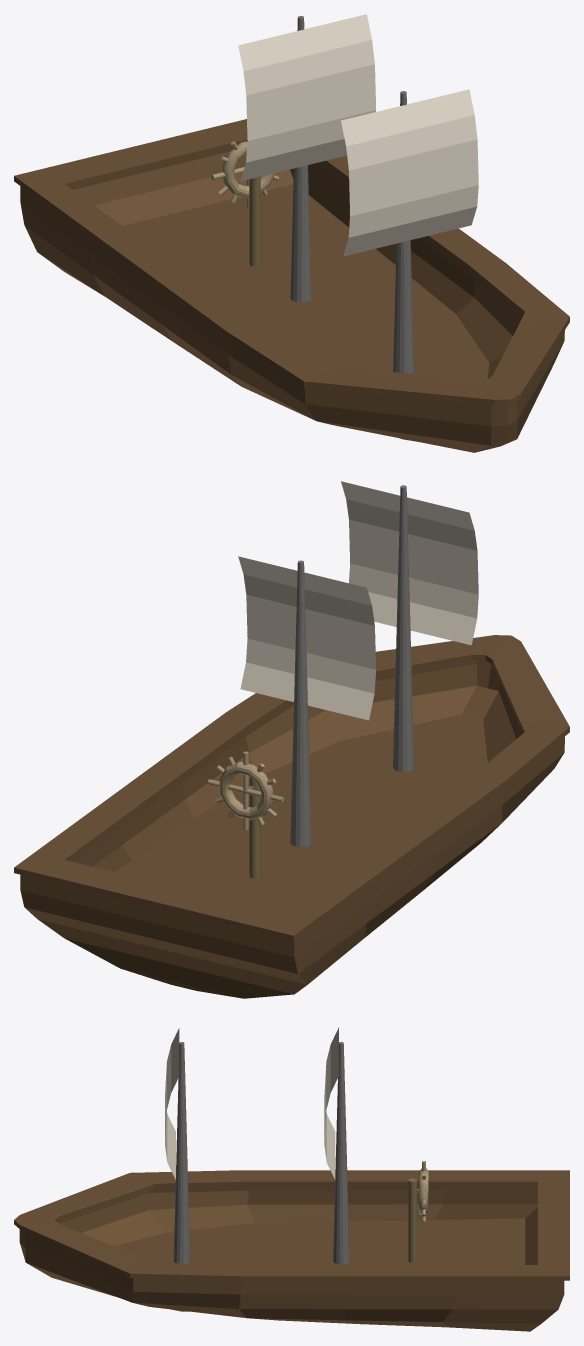
The model's file is Gemi.fbx.
3 views of the same model, one above another, from view 1: azimuth 30°, elevation 25°; view 2: azimuth 150°, elevation 25°; view 3: azimuth 270°, elevation 25° (orthographic). The views are drawn at different scales.
Visible parts, largest first — view 1: Cube.004, Plane, Plane.001, Cylinder.001, Cylinder, Cylinder.009, Cylinder.002; view 2: Cube.004, Plane.001, Plane, Cylinder.001, Cylinder, Cylinder.009, Cylinder.002; view 3: Cube.004, Cylinder, Cylinder.001, Plane.001, Plane, Cylinder.002, Cylinder.009.
Part boxes in pixels (x1,y1,x2,y2): Cube.004: (14,119,569,452); Plane: (341,89,478,256); Plane.001: (238,14,376,181); Cylinder.001: (290,16,311,302); Cylinder: (393,91,414,374); Cylinder.009: (211,130,278,207); Cylinder.002: (249,176,260,266); Cube.004: (14,635,569,998); Plane.001: (238,556,376,720); Plane: (341,481,478,645); Cylinder.001: (290,560,311,846); Cylinder: (393,485,414,771); Cylinder.009: (207,751,284,830); Cylinder.002: (248,777,260,878); Cube.004: (14,1170,569,1331); Cylinder: (173,1042,190,1263); Cylinder.001: (333,1042,349,1264); Plane.001: (324,1027,338,1179); Plane: (165,1028,179,1179); Cylinder.002: (408,1178,418,1262); Cylinder.009: (418,1161,428,1222).
Size of the model in its own units: 331 by 384 by 733.
